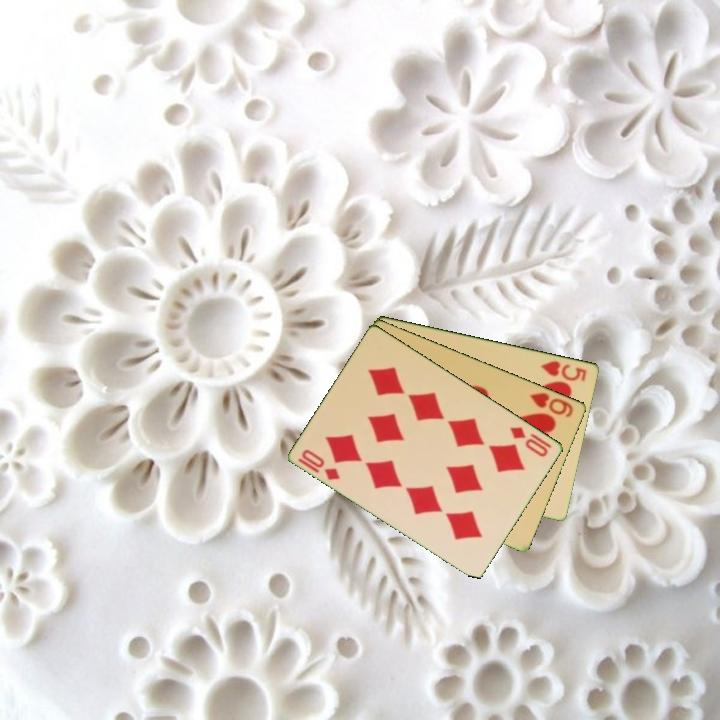10d: (298, 445, 343, 483), (506, 423, 552, 460)
5h: (537, 357, 590, 384)
6h: (527, 389, 576, 420)
